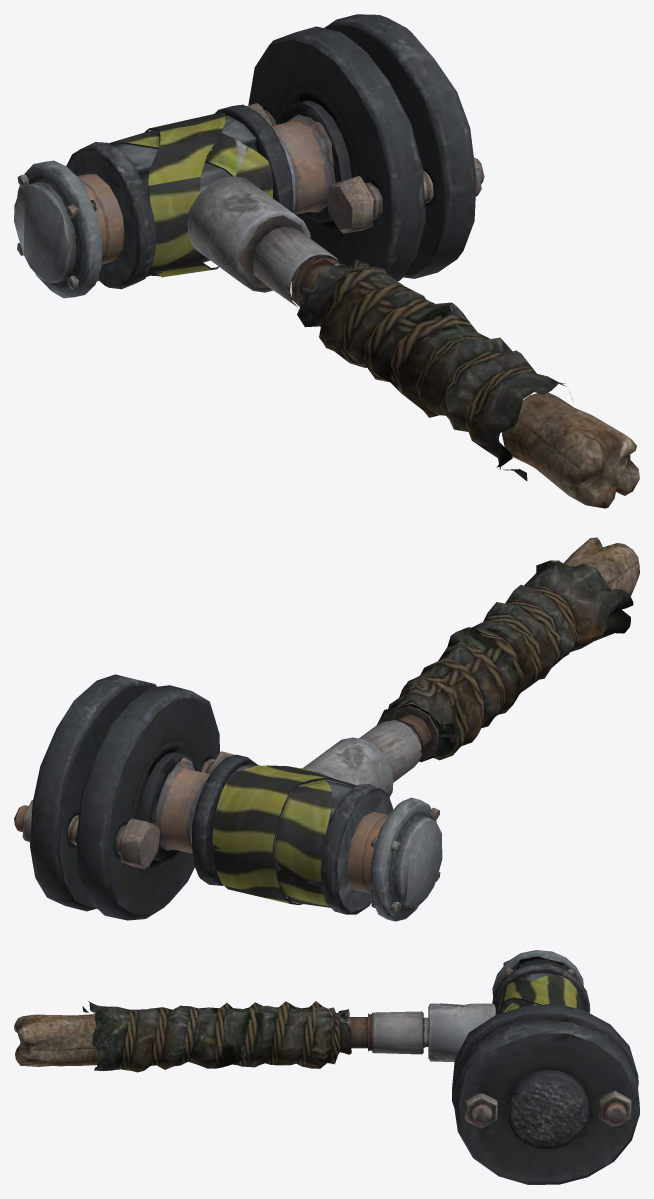
The model's file is hammer_salvaged.worldmodel.glb.
3 views of the same model, one above another, from view 1: azimuth 30°, elevation 25°; view 2: azimuth 150°, elevation 25°; view 3: azimuth 270°, elevation 25° (orthographic). The views are drawn at different scales.
Visible parts, largest first — view 1: w_s_tool_3_LOD0; view 2: w_s_tool_3_LOD0; view 3: w_s_tool_3_LOD0.
Boxes of the visible parts, bbox=[...] form: w_s_tool_3_LOD0: bbox=[14, 14, 639, 508]; w_s_tool_3_LOD0: bbox=[14, 537, 639, 921]; w_s_tool_3_LOD0: bbox=[14, 950, 639, 1184].
Size of the model in its own units: 0.288 by 0.1641 by 0.5879.
Materials: 1 (1 with a texture image).
